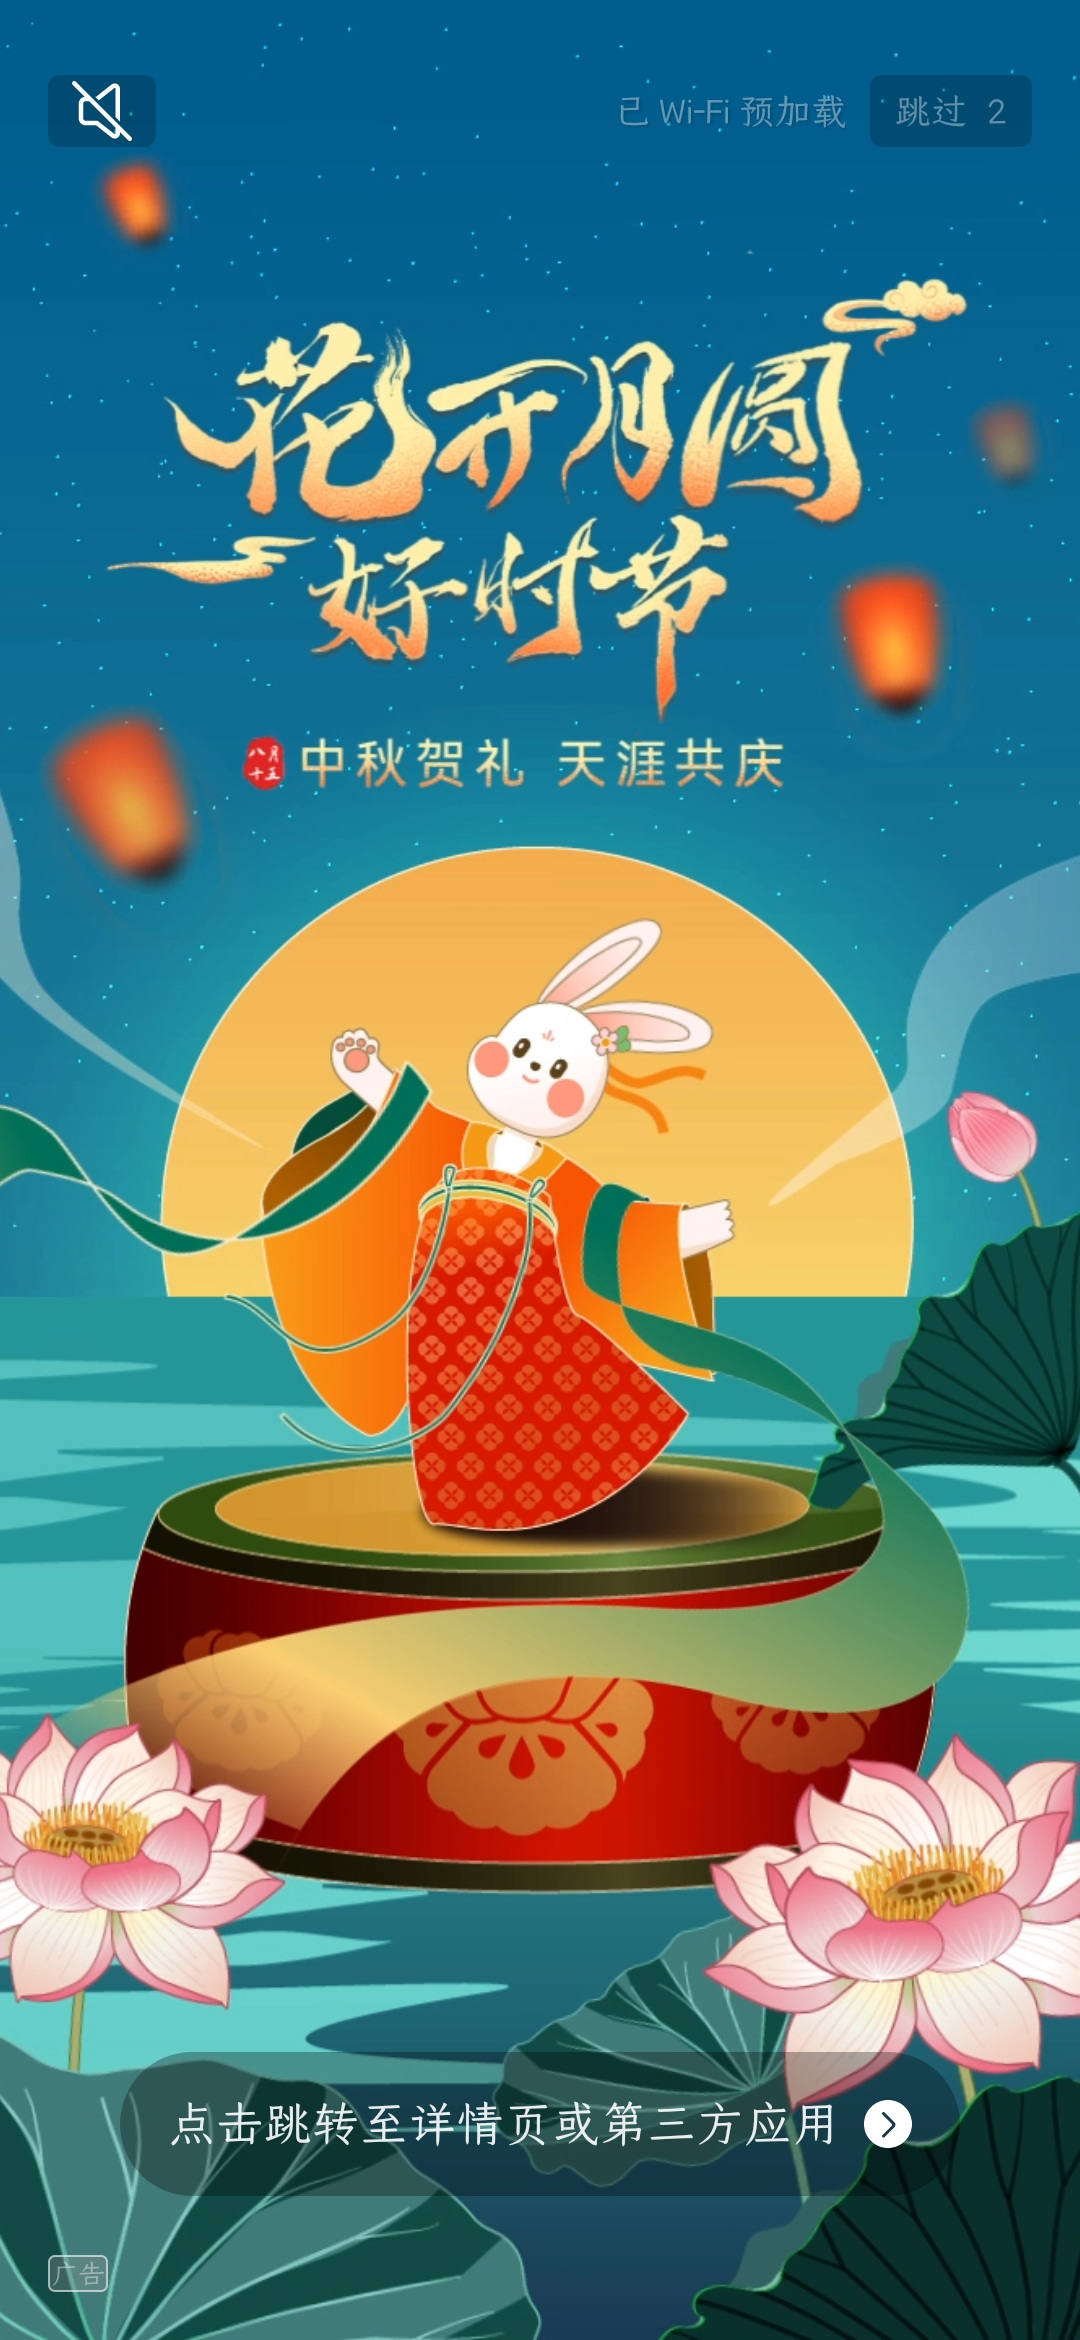skip: (874, 75, 1032, 148)
